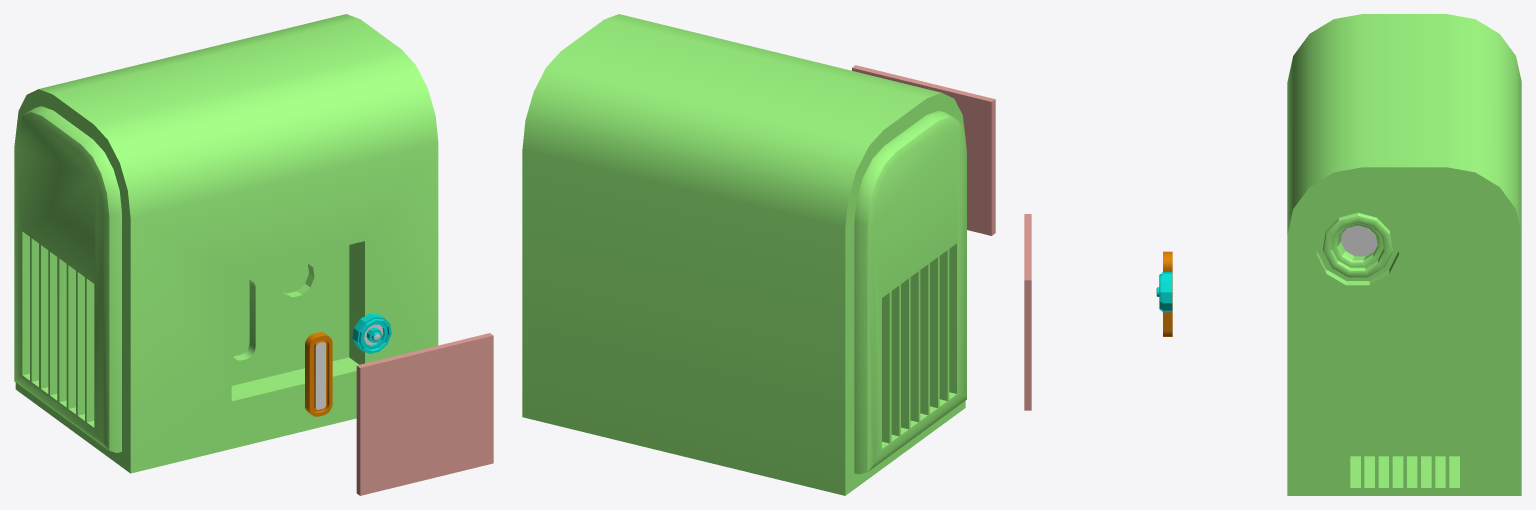
File: BLEU_SCREEN_GENERATOR_3.fbx
The picture shows the model from 3 angles, left to right: view 1: azimuth 30°, elevation 25°; view 2: azimuth 150°, elevation 25°; view 3: azimuth 270°, elevation 25°; orthographic projection. The views are drawn at different scales.
Visible parts, largest first — view 1: Cube, Cube.001, Cube.002, Cube.003; view 2: Cube, Cube.001; view 3: Cube, Cube.001, Cube.003.
Part boxes in pixels (x1=…): Cube: x1=14, y1=14, x2=438, y2=473; Cube.001: x1=356, y1=333, x2=493, y2=495; Cube.002: x1=305, y1=332, x2=332, y2=416; Cube.003: x1=352, y1=313, x2=391, y2=353; Cube: x1=522, y1=14, x2=966, y2=495; Cube.001: x1=852, y1=65, x2=995, y2=235; Cube: x1=1287, y1=14, x2=1521, y2=495; Cube.001: x1=1024, y1=214, x2=1031, y2=410; Cube.003: x1=1156, y1=272, x2=1172, y2=312.
Bounding box in the file's own units: 105 × 100 × 137.
